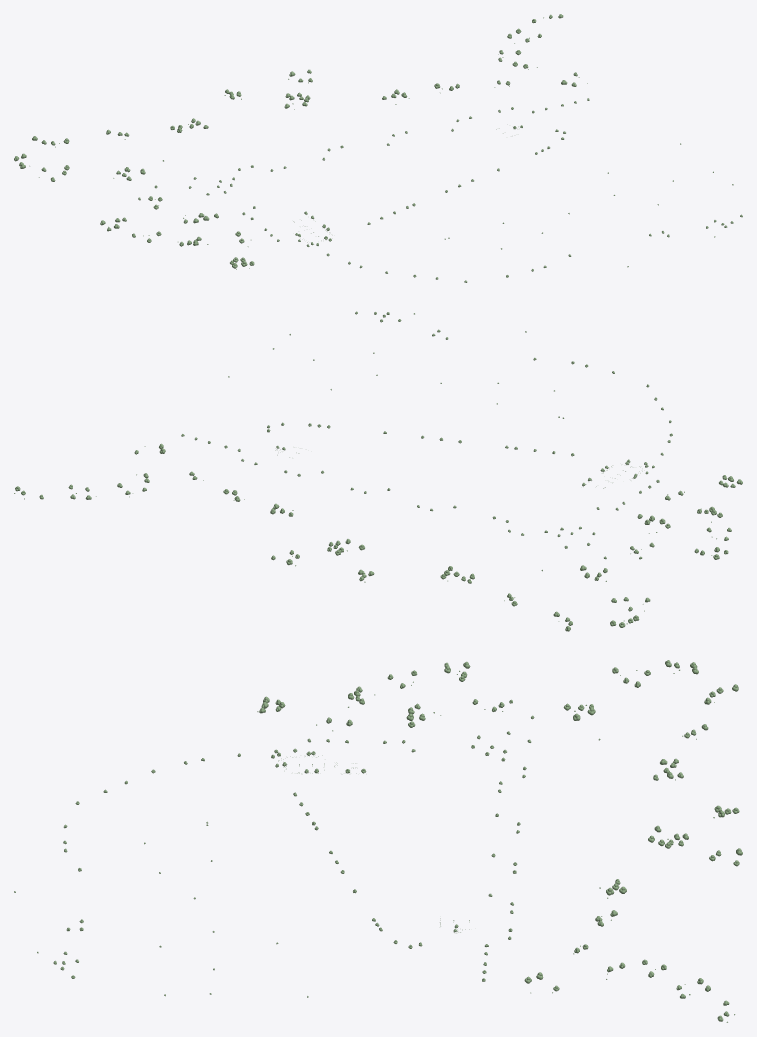
File: SM_GHSPark_Trees.fbx
3 renders of one model, top to bottom at view 1: azimuth 30°, elevation 25°; view 2: azimuth 150°, elevation 25°; view 3: azimuth 270°, elevation 25°, orthographic. The views are drawn at different scales.
Parts seen in each view (by area): view 1: SM_GHSPark_Trees; view 2: SM_GHSPark_Trees; view 3: SM_GHSPark_Trees.
Boxes of the visible parts, box(x1,y1,x2,y2) form: SM_GHSPark_Trees: box(14, 14, 742, 282); SM_GHSPark_Trees: box(14, 311, 742, 631); SM_GHSPark_Trees: box(14, 660, 742, 1022).
Bounding box in the file's own units: 106937 × 92166 × 1166.
